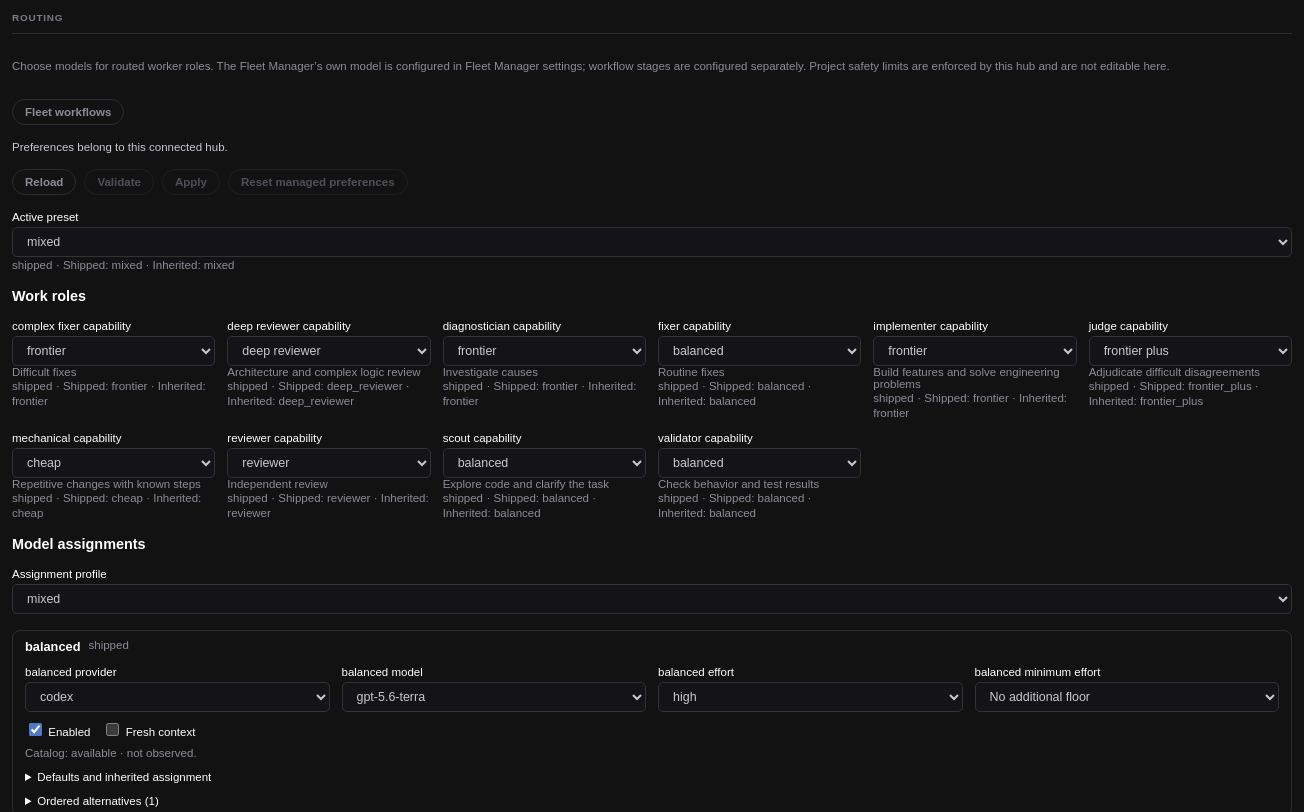
Routing settings › sends a sparse draft, validates and renders the installed value
This screenshot has width=1304, height=812.
Select "cheap" in the dropdown labelled "scout capability": (544, 463) left=443, top=448, right=646, bottom=478
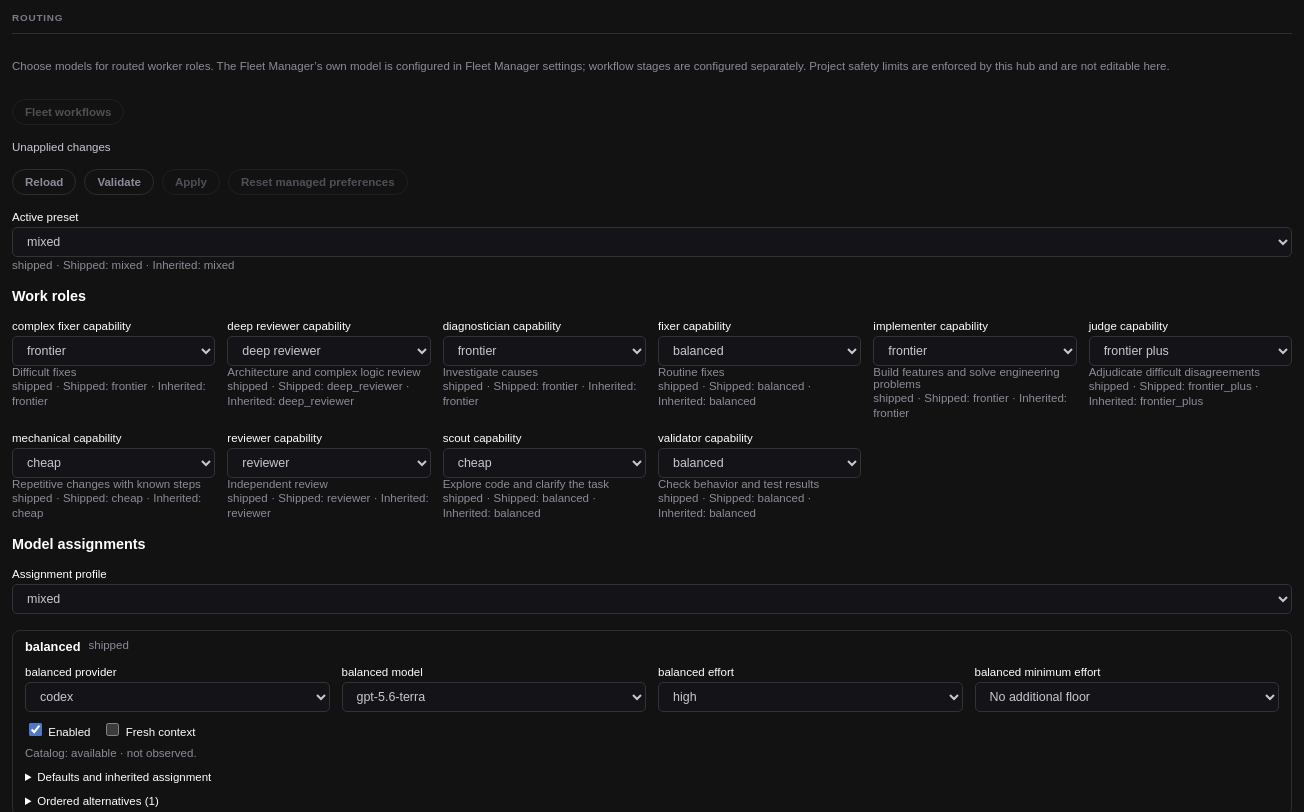
Expected: the button "Apply" is disabled, left=162, top=169, right=220, bottom=195
Click the button "Validate": (119, 182) left=84, top=169, right=154, bottom=195
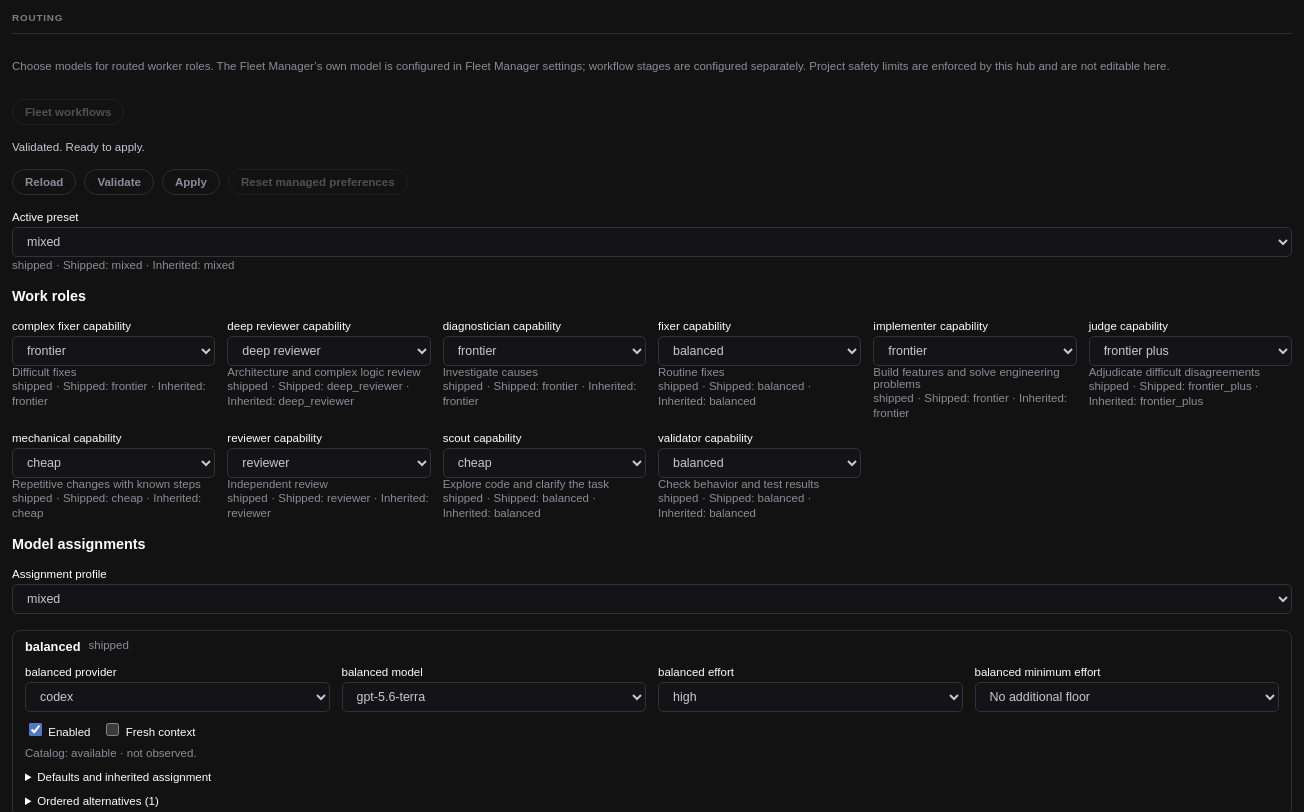
Click the button "Apply": (191, 182) left=162, top=169, right=220, bottom=195
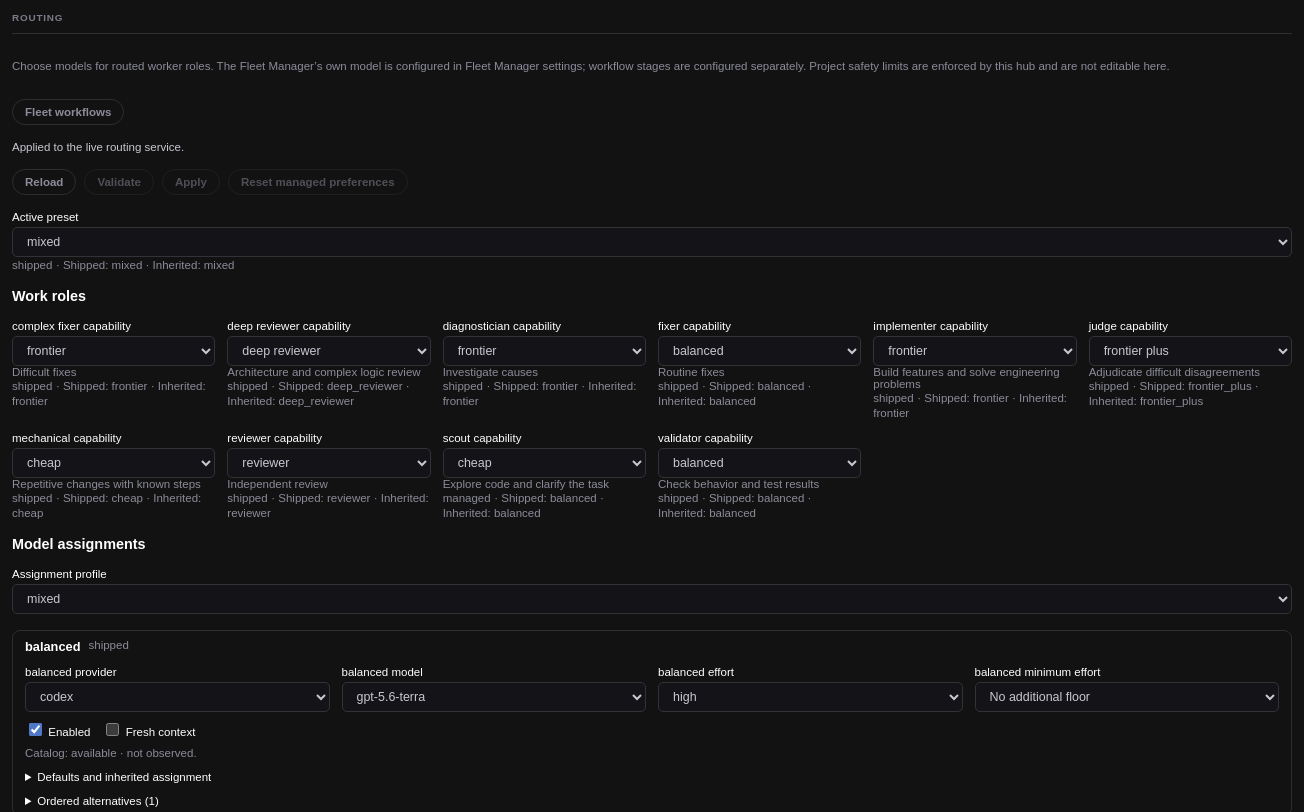
Expected: the text "Applied to the live routing service." is shown, left=12, top=141, right=184, bottom=153
Expected: the button "Apply" is disabled, left=162, top=169, right=220, bottom=195
